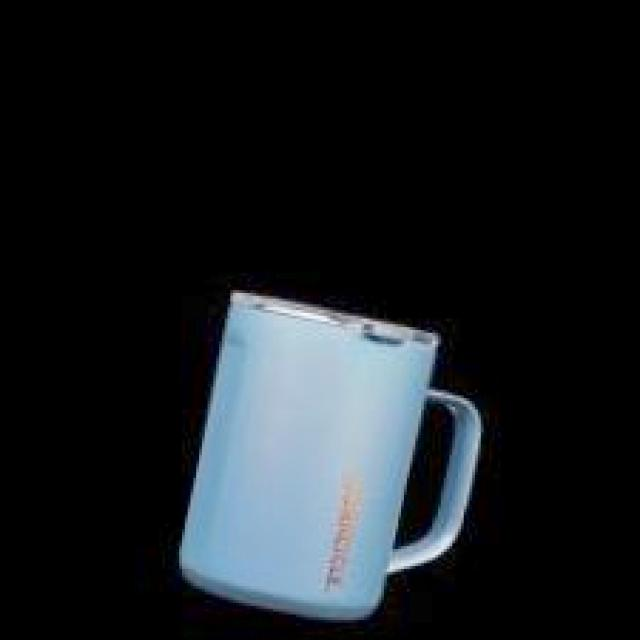bottle: (168, 284, 498, 640)
